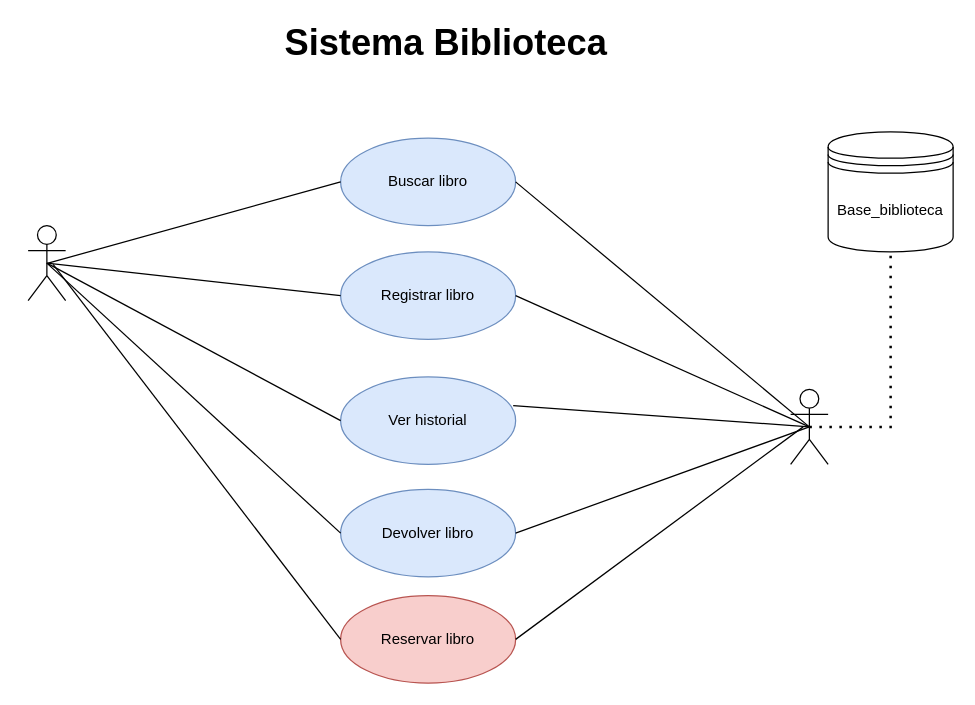
Some shapes in this 975 by 705 pixel diagram are drawn without their labels. The shapes that lost their labels are listed below. From the top down, each one's centre as x and y in pixels, then its label:
At [46,262]: "Usuario".
At [808,426]: "Sistema".
